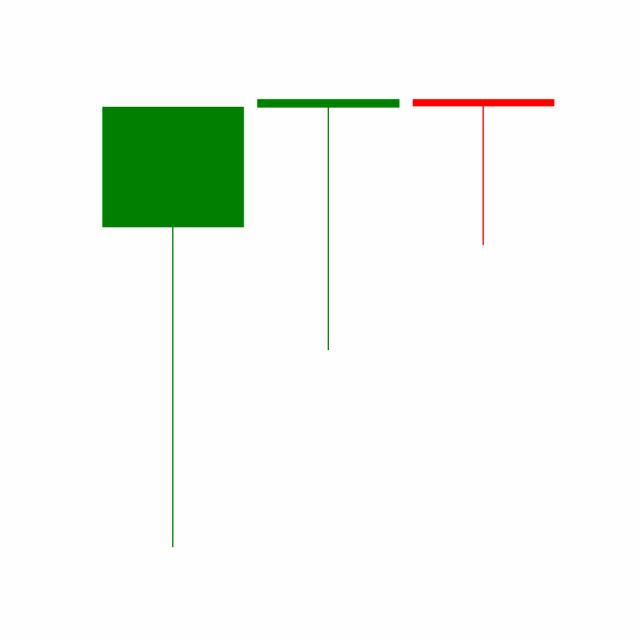Dragonfly Doji: (249, 96, 406, 353)
